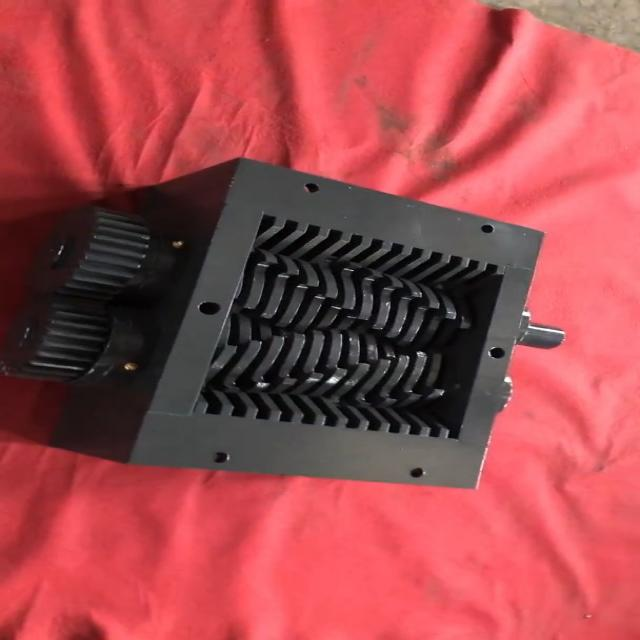Broyeur: (200, 177, 505, 494)
